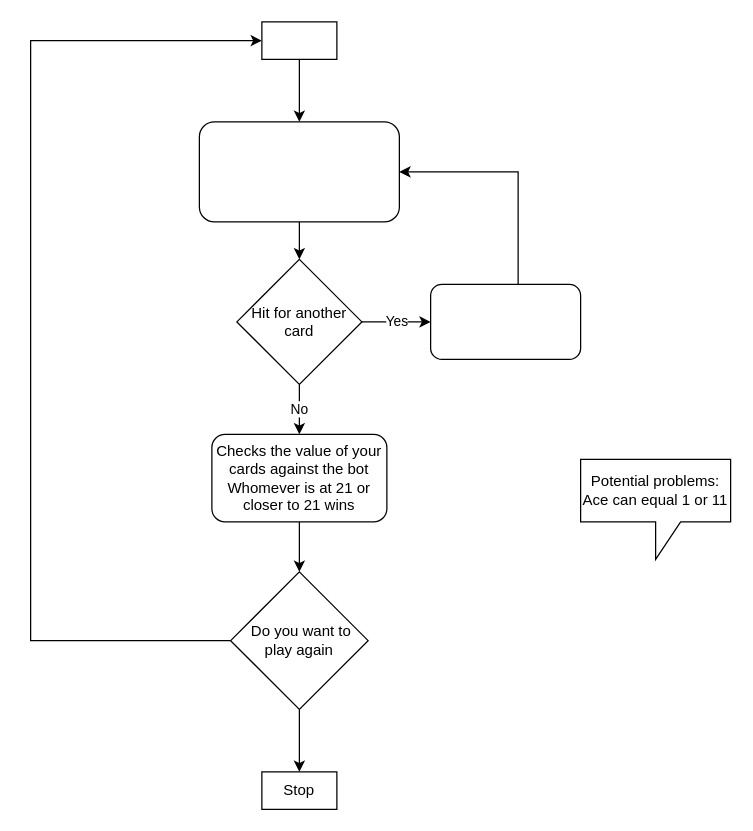
Some shapes in this 753 by 831 pixel diagram are drawn without their labels. The shapes that lost their labels are listed below. From the top down, each one's centre as x and y in pixels, then its label:
At pixel 299 40: "Start".
At pixel 298 171: "Create list of cards and dictionary of values. Deal 2 cards to user and bot".
At pixel 505 321: "gives you another card and checks if value is >= 21".
